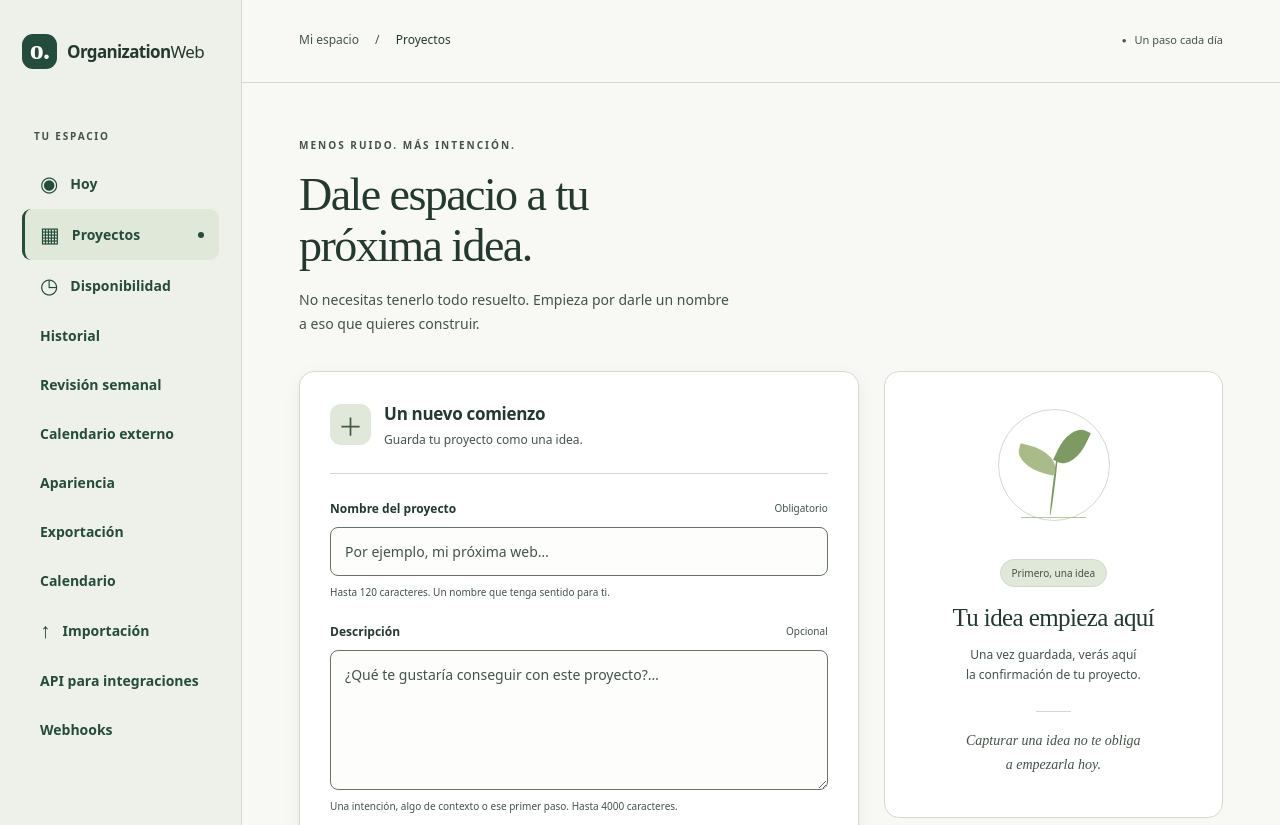
crear proyecto › @s25 informa de incertidumbre de red, conserva el formulario y no reintenta
Type "Idea" into the field labelled "Nombre del proyecto Obligatorio" at (579, 551), box [330, 527, 828, 576]
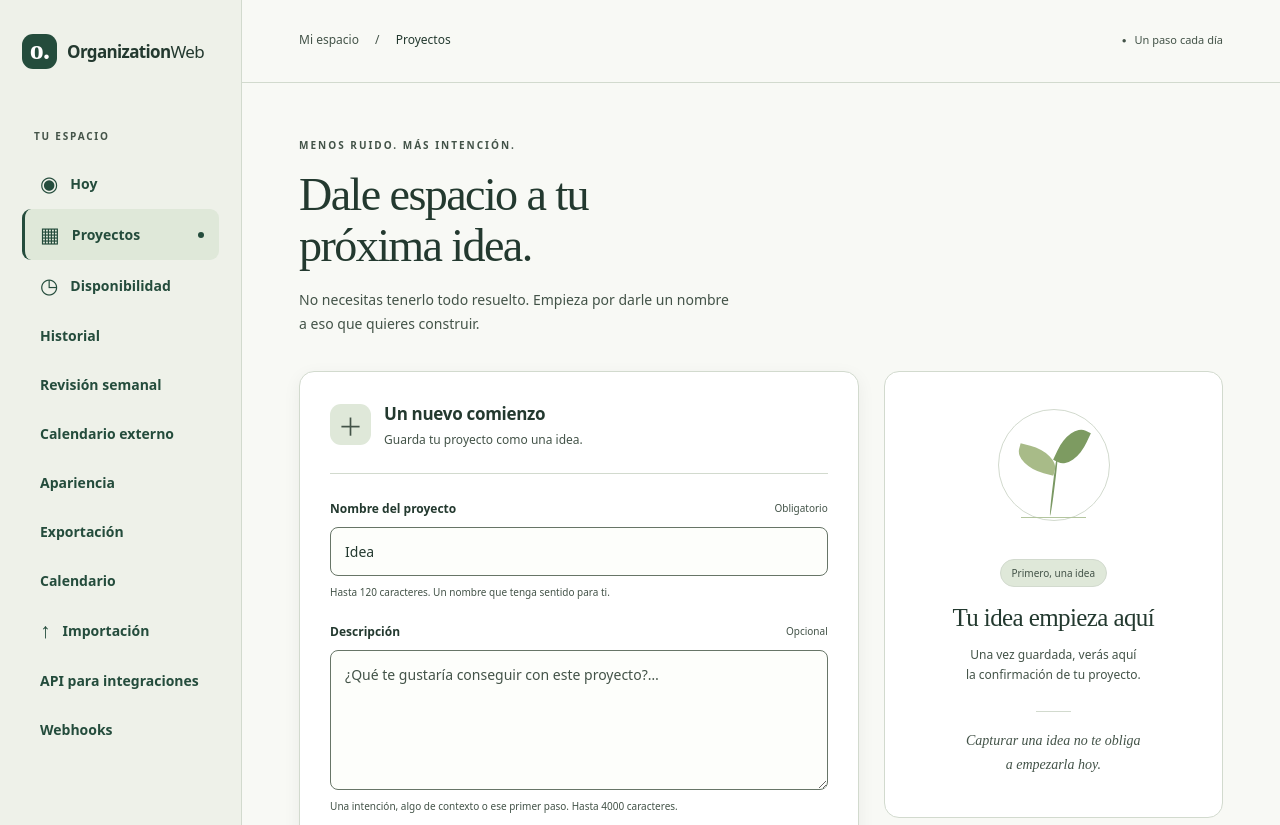
Type "Continuar mañana" into the text box labelled "Descripción Opcional" at (579, 720), box [330, 650, 828, 790]
(page scrolled)
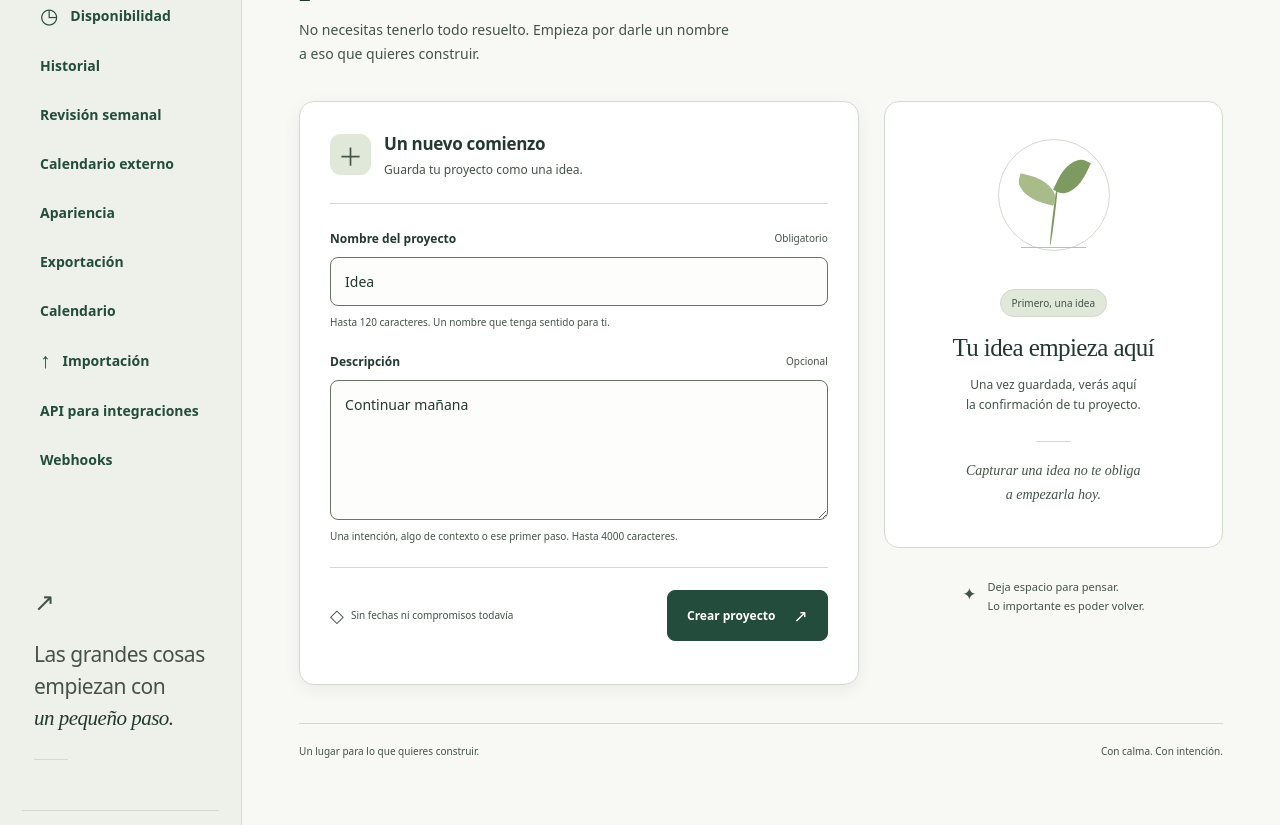
Click the button "Crear proyecto ↗" at (747, 615), box [667, 590, 828, 641]
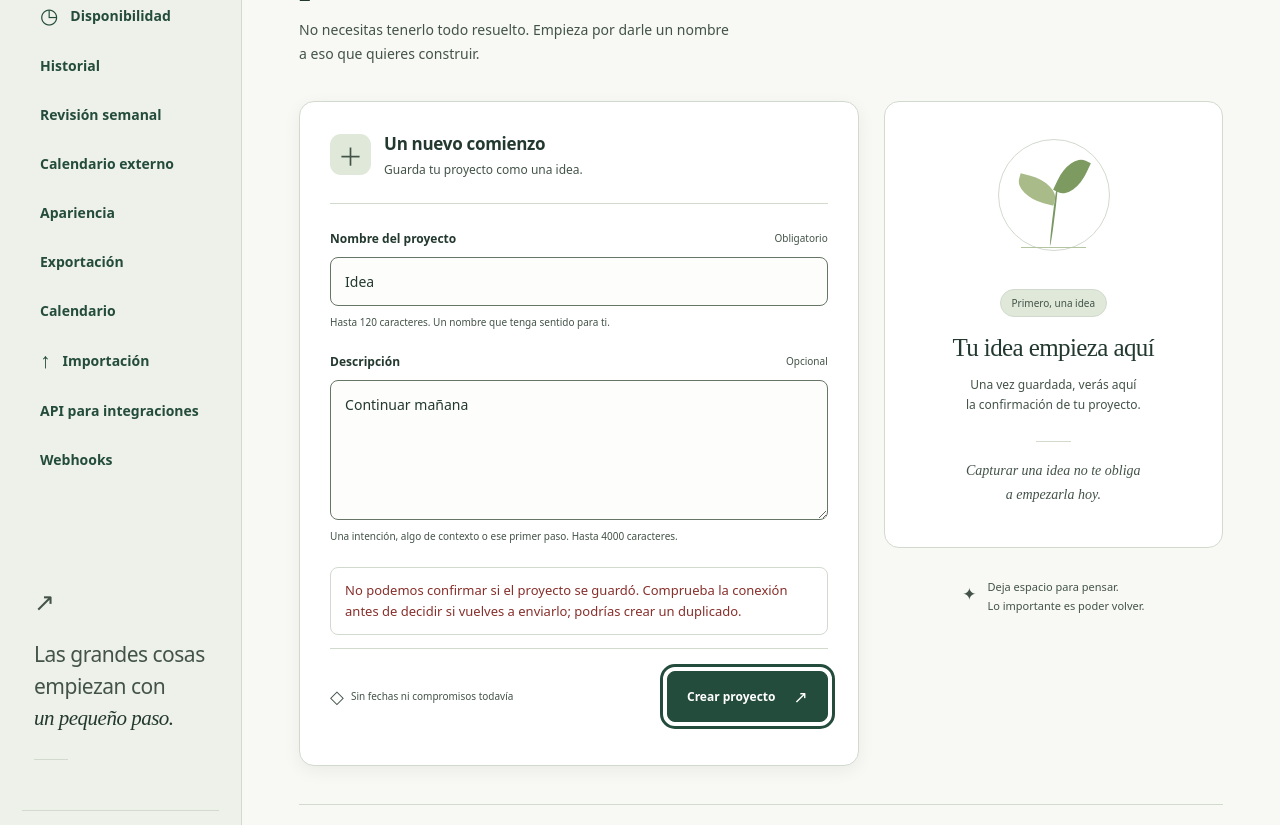
Check: the button "Crear proyecto ↗" is enabled, box [667, 670, 828, 722]
Check: the 1st message shows "No podemos confirmar si el proyecto se guardó.", box [345, 581, 788, 620]
